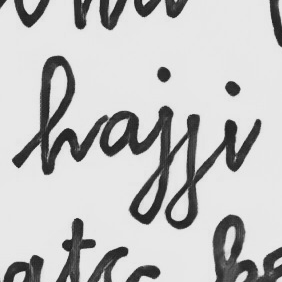a: (97, 108, 139, 159)
h: (35, 53, 84, 177)
i: (218, 78, 244, 174)
j: (126, 64, 175, 228), (160, 112, 205, 231)
